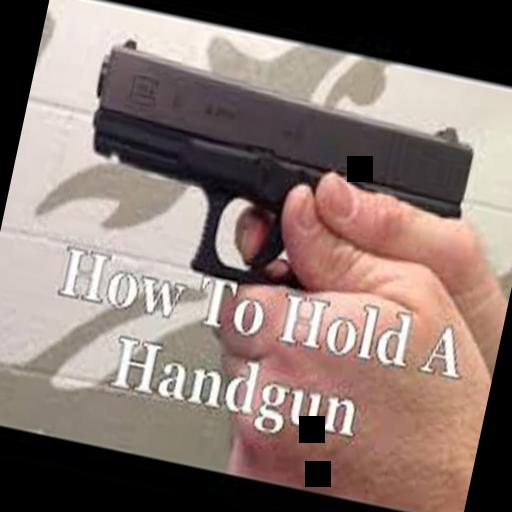Handgun: (58, 23, 486, 336)
